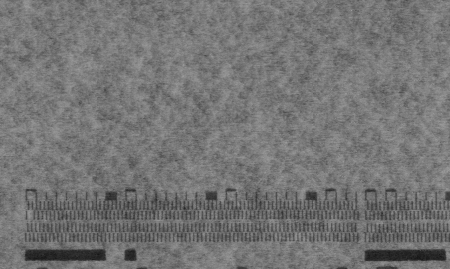Broken hole: (25, 209, 37, 221)
